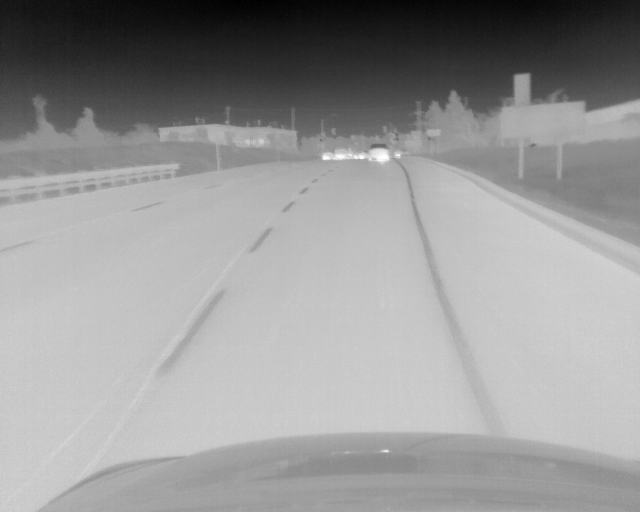car: (369, 141, 391, 162), (335, 147, 349, 159), (322, 151, 332, 159), (360, 151, 367, 158), (394, 151, 399, 157)
